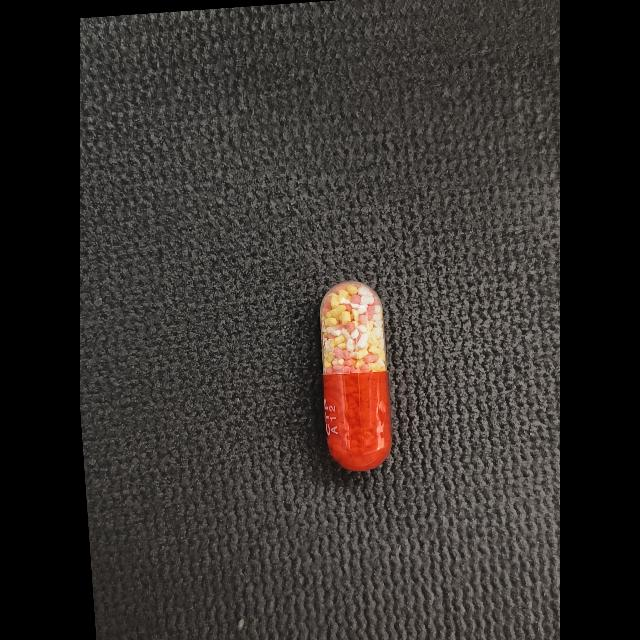Intact Capsule: (320, 281, 392, 471)
